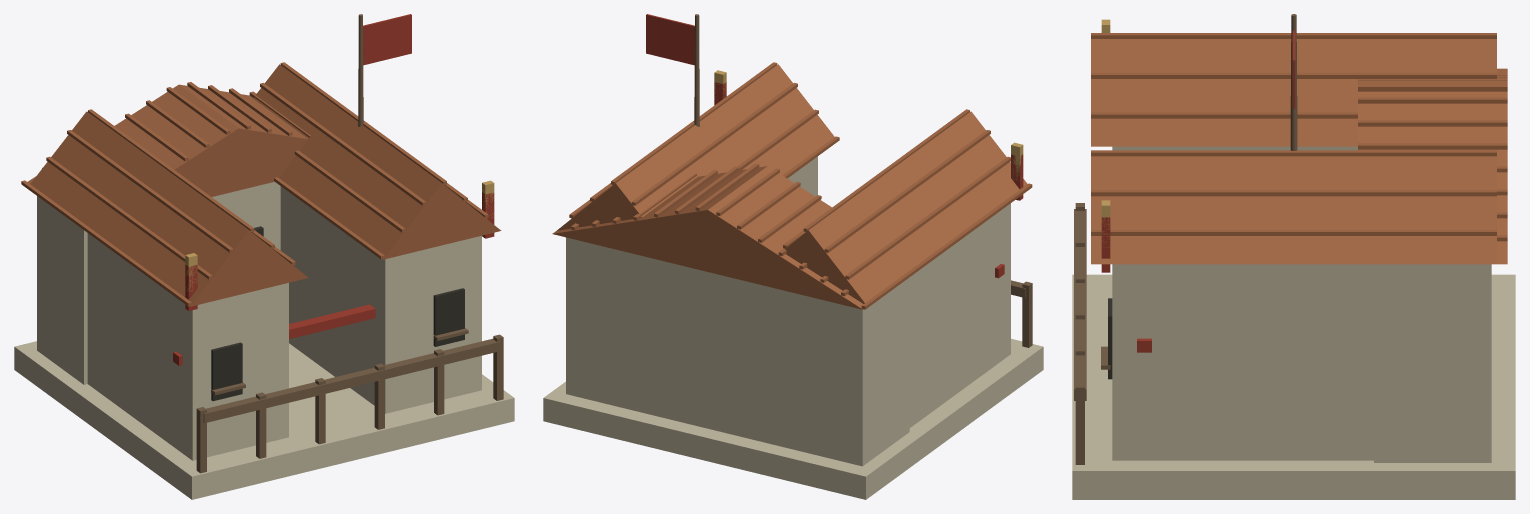
Rendered from b-camel-roman.glb.
The picture shows the model from 3 angles, left to right: view 1: azimuth 30°, elevation 25°; view 2: azimuth 150°, elevation 25°; view 3: azimuth 270°, elevation 25°; orthographic projection. The views are drawn at different scales.
Parts seen in each view (by area): view 1: Structure, era1, era3; view 2: Structure; view 3: Structure.
Boxes of the visible parts, x1=… form: Structure: x1=14, y1=14, x2=514, y2=499; era1: x1=185, y1=201, x2=494, y2=310; era3: x1=185, y1=180, x2=494, y2=291; Structure: x1=543, y1=14, x2=1043, y2=499; Structure: x1=1072, y1=14, x2=1515, y2=499.
Bounding box in the file's own units: 4.35 × 4.6 × 4.15.
